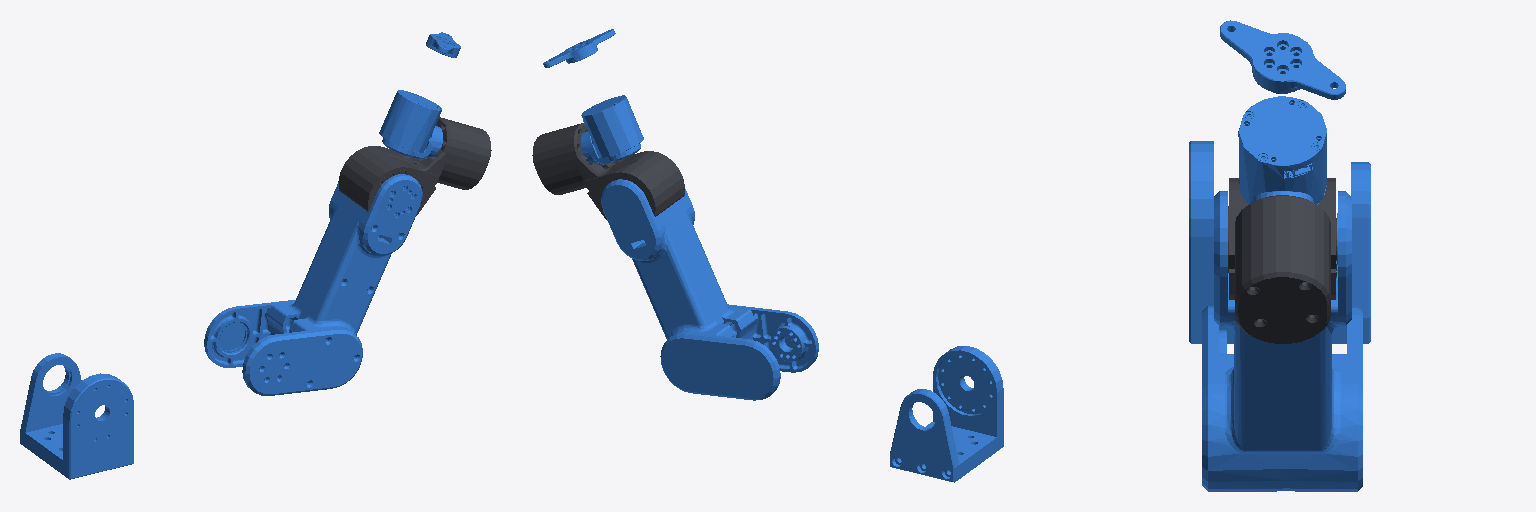
The robot description file, URDF, robot "magarm":
<?xml version="1.0"?>
<!-- MaGaRM, generated by cad/scripts/make_urdf.py from the CAD assembly. Zero pose = CAD pose (arm folded). -->
<robot name="magarm">
  <material name="blue"><color rgba="0.27 0.55 0.9 1"/></material>
  <material name="grey"><color rgba="0.3 0.31 0.34 1"/></material>
  <link name="base_link">
    <inertial>
      <origin xyz="-4.52737e-06 1.84001e-05 0.0486051" rpy="0 0 0"/>
      <mass value="1.0768"/>
      <inertia ixx="0.000849832" ixy="-1.11409e-07" ixz="-2.18357e-09" iyy="0.000843317" iyz="1.23198e-06" izz="0.000965692"/>
    </inertial>
    <visual><geometry><mesh filename="meshes/base_link.stl"/></geometry><material name="grey"/></visual>
    <collision><geometry><mesh filename="meshes/base_link.stl"/></geometry></collision>
  </link>
  <link name="link1">
    <inertial>
      <origin xyz="2.46476e-09 -0.00727928 0.025629" rpy="0 0 0"/>
      <mass value="0.1189"/>
      <inertia ixx="0.000210602" ixy="1.21163e-11" ixz="-5.68736e-12" iyy="0.000119699" iyz="2.09783e-05" izz="0.000184299"/>
    </inertial>
    <visual><geometry><mesh filename="meshes/link1.stl"/></geometry><material name="blue"/></visual>
    <collision><geometry><mesh filename="meshes/link1.stl"/></geometry></collision>
  </link>
  <link name="link2">
    <inertial>
      <origin xyz="0.0567126 -0.00426111 -9.87008e-06" rpy="0 0 0"/>
      <mass value="1.5728"/>
      <inertia ixx="0.00106506" ixy="-0.000154816" ixz="-1.70305e-06" iyy="0.0122876" iyz="1.0606e-06" izz="0.0121907"/>
    </inertial>
    <visual><geometry><mesh filename="meshes/link2.stl"/></geometry><material name="grey"/></visual>
    <collision><geometry><mesh filename="meshes/link2.stl"/></geometry></collision>
  </link>
  <link name="link3">
    <inertial>
      <origin xyz="-0.0707696 0.000269438 0.0546642" rpy="0 0 0"/>
      <mass value="0.2050"/>
      <inertia ixx="0.000278723" ixy="1.98366e-05" ixz="0.000124882" iyy="0.000966204" iyz="-5.75771e-06" izz="0.000973204"/>
    </inertial>
    <visual><geometry><mesh filename="meshes/link3.stl"/></geometry><material name="blue"/></visual>
    <collision><geometry><mesh filename="meshes/link3.stl"/></geometry></collision>
  </link>
  <link name="link4">
    <inertial>
      <origin xyz="-0.0217537 -0.00228743 0.0229284" rpy="0 0 0"/>
      <mass value="0.6543"/>
      <inertia ixx="0.000778009" ixy="3.28031e-05" ixz="0.000477614" iyy="0.00123868" iyz="-3.48528e-05" izz="0.000715628"/>
    </inertial>
    <visual><geometry><mesh filename="meshes/link4.stl"/></geometry><material name="grey"/></visual>
    <collision><geometry><mesh filename="meshes/link4.stl"/></geometry></collision>
  </link>
  <link name="link5">
    <inertial>
      <origin xyz="-0.00992942 4.69411e-05 -0.0368696" rpy="0 0 0"/>
      <mass value="0.2553"/>
      <inertia ixx="9.06579e-05" ixy="1.77997e-07" ixz="-2.33241e-06" iyy="0.000107884" iyz="-6.44231e-08" izz="0.000101017"/>
    </inertial>
    <visual><geometry><mesh filename="meshes/link5.stl"/></geometry><material name="blue"/></visual>
    <collision><geometry><mesh filename="meshes/link5.stl"/></geometry></collision>
  </link>
  <link name="link6">
    <inertial>
      <origin xyz="-0.0955147 -0.000207879 0.0193381" rpy="0 0 0"/>
      <mass value="0.3876"/>
      <inertia ixx="0.000819138" ixy="-2.27972e-07" ixz="4.43613e-05" iyy="0.000562021" iyz="-1.71756e-06" izz="0.000629617"/>
    </inertial>
    <visual><geometry><mesh filename="meshes/link6.stl"/></geometry><material name="blue"/></visual>
    <collision><geometry><mesh filename="meshes/link6.stl"/></geometry></collision>
  </link>
  <link name="gripper_link">
    <inertial>
      <origin xyz="-0.0059378 1.81956e-09 1.13126e-09" rpy="0 0 0"/>
      <mass value="0.0071"/>
      <inertia ixx="2.10657e-06" ixy="-9.72181e-15" ixz="-8.81271e-15" iyy="8.86642e-07" iyz="-6.25243e-07" izz="1.34179e-06"/>
    </inertial>
    <visual><geometry><mesh filename="meshes/gripper_link.stl"/></geometry><material name="blue"/></visual>
    <collision><geometry><mesh filename="meshes/gripper_link.stl"/></geometry></collision>
  </link>
  <link name="tcp"/>
  <joint name="joint1" type="revolute">
    <parent link="base_link"/><child link="link1"/>
    <origin xyz="0 0 0.08275" rpy="0 0 0"/>
    <axis xyz="0 0 1"/>
    <limit lower="-2.79253" upper="2.79253" effort="54.0" velocity="3.14"/>
  </joint>
  <joint name="joint2" type="revolute">
    <parent link="link1"/><child link="link2"/>
    <origin xyz="0 0 0.061" rpy="0 0 0"/>
    <axis xyz="0 -1 0"/>
    <limit lower="0.0" upper="3.49066" effort="54.0" velocity="3.14"/>
  </joint>
  <joint name="joint3" type="revolute">
    <parent link="link2"/><child link="link3"/>
    <origin xyz="0.19 0 0" rpy="0 0 0"/>
    <axis xyz="0 -1 0"/>
    <limit lower="-4.01426" upper="-0.0611" effort="27.0" velocity="5.8"/>
  </joint>
  <joint name="joint4" type="revolute">
    <parent link="link3"/><child link="link4"/>
    <origin xyz="-0.185 0 0.064" rpy="0 0 0"/>
    <axis xyz="0 -1 0"/>
    <limit lower="-0.8727" upper="1.5708" effort="27.0" velocity="5.8"/>
  </joint>
  <joint name="joint5" type="revolute">
    <parent link="link4"/><child link="link5"/>
    <origin xyz="-0.05455 0 0.038" rpy="0 0 0"/>
    <axis xyz="0 0 -1"/>
    <limit lower="-1.5708" upper="1.5708" effort="6.0" velocity="22.0"/>
  </joint>
  <joint name="joint6" type="revolute">
    <parent link="link5"/><child link="link6"/>
    <origin xyz="0.00681 0 -0.038" rpy="0 0 0"/>
    <axis xyz="1 0 0"/>
    <limit lower="-1.5708" upper="1.5708" effort="6.0" velocity="22.0"/>
  </joint>
  <joint name="gripper_joint" type="revolute">
    <parent link="link6"/><child link="gripper_link"/>
    <origin xyz="-0.09376 0 0" rpy="0 0 0"/>
    <axis xyz="1 0 0"/>
    <limit lower="-1.5708" upper="1.5708" effort="0.45" velocity="50.0"/>
  </joint>
  <joint name="tcp_joint" type="fixed">
    <parent link="link6"/><child link="tcp"/>
    <origin xyz="-0.17326 0 0" rpy="0 0 0"/>
  </joint>
</robot>

--- What the picture shows (computed from the rendered views, not written in the file) ---
Views: 3 orthographic renders of the robot side by side, from view 1: azimuth 30°, elevation 25°; view 2: azimuth 150°, elevation 25°; view 3: azimuth 270°, elevation 25°.
Robot: magarm — 9 links, 8 joints (7 revolute, 1 fixed); root link base_link; default pose: all joints at 0 but 1 set to mid-range because 0 is outside their limits (joint3 = -2.04).
Links seen in each view (by area): view 1: link3, link1, link4, link5, gripper_link; view 2: link3, link1, link4, link5, gripper_link; view 3: link3, link4, link5, link1, gripper_link.
Boxes of the visible links, <box> form: link3: <box>204,174,422,395</box>; link1: <box>20,353,133,479</box>; link4: <box>338,117,491,215</box>; link5: <box>379,90,442,158</box>; gripper_link: <box>426,32,460,57</box>; link3: <box>601,179,818,400</box>; link1: <box>890,346,1003,482</box>; link4: <box>532,123,684,219</box>; link5: <box>581,95,643,164</box>; gripper_link: <box>543,29,615,67</box>; link3: <box>1202,191,1362,491</box>; link4: <box>1228,178,1336,343</box>; link5: <box>1238,96,1326,204</box>; link1: <box>1189,141,1370,343</box>; gripper_link: <box>1220,20,1345,99</box>.
Size in the robot's own frame: 0.477 by 0.0938 by 0.344 metres.
Meshes: 8 distinct files referenced, 5 mesh visuals loaded (5 binary STL); not drawn: 3 (reference not matched to a file when rendering).
